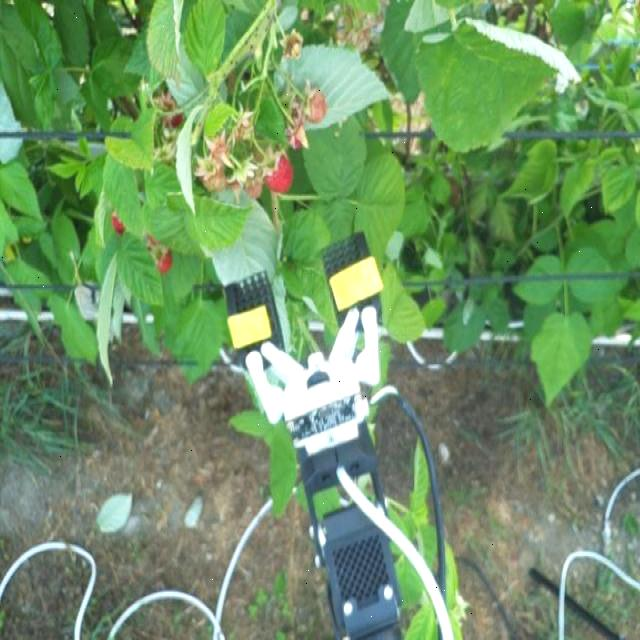Riped berries: (261, 148, 295, 196), (148, 234, 176, 274), (109, 208, 129, 236)
